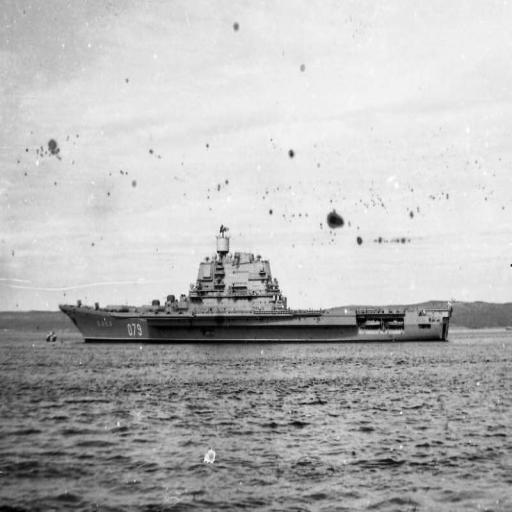Portanaves: (57, 219, 459, 347)
